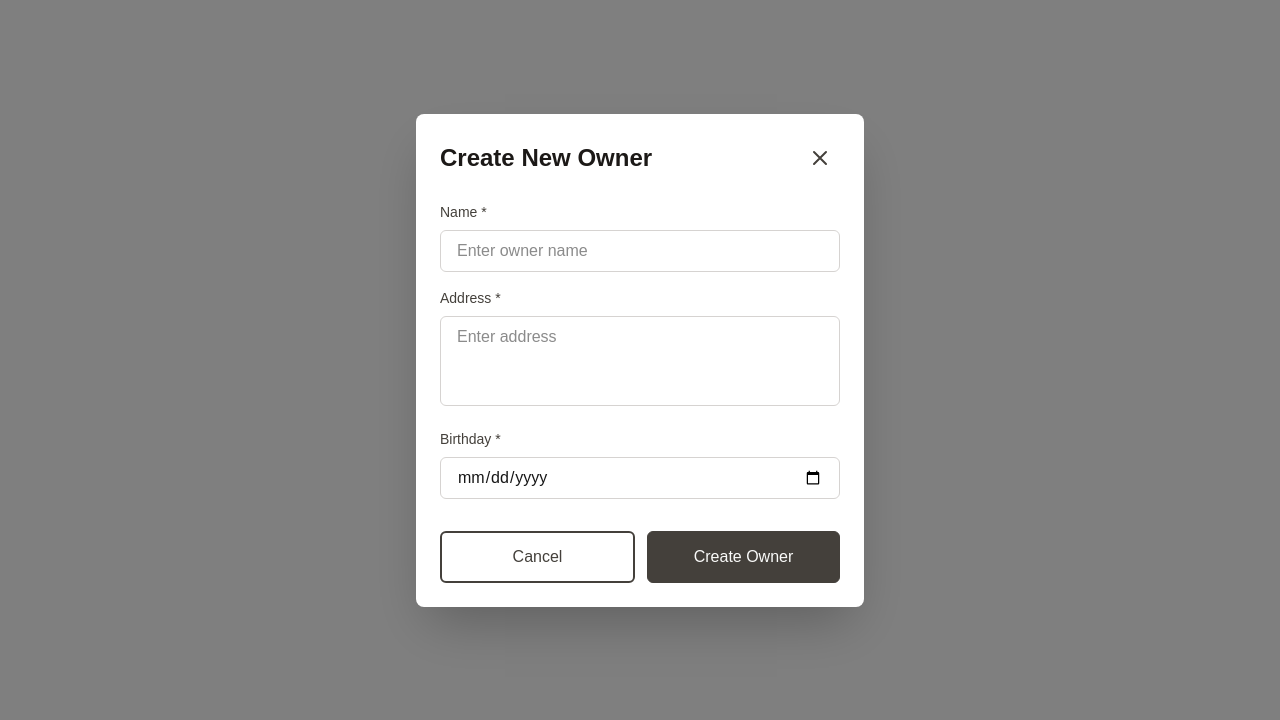
it: CreateOwnerModal › validates required fields
What coordinates should you click on to do the following:
click the button "Create Owner"
I would click on:
 (744, 556)
Its box is [647,530,840,582].
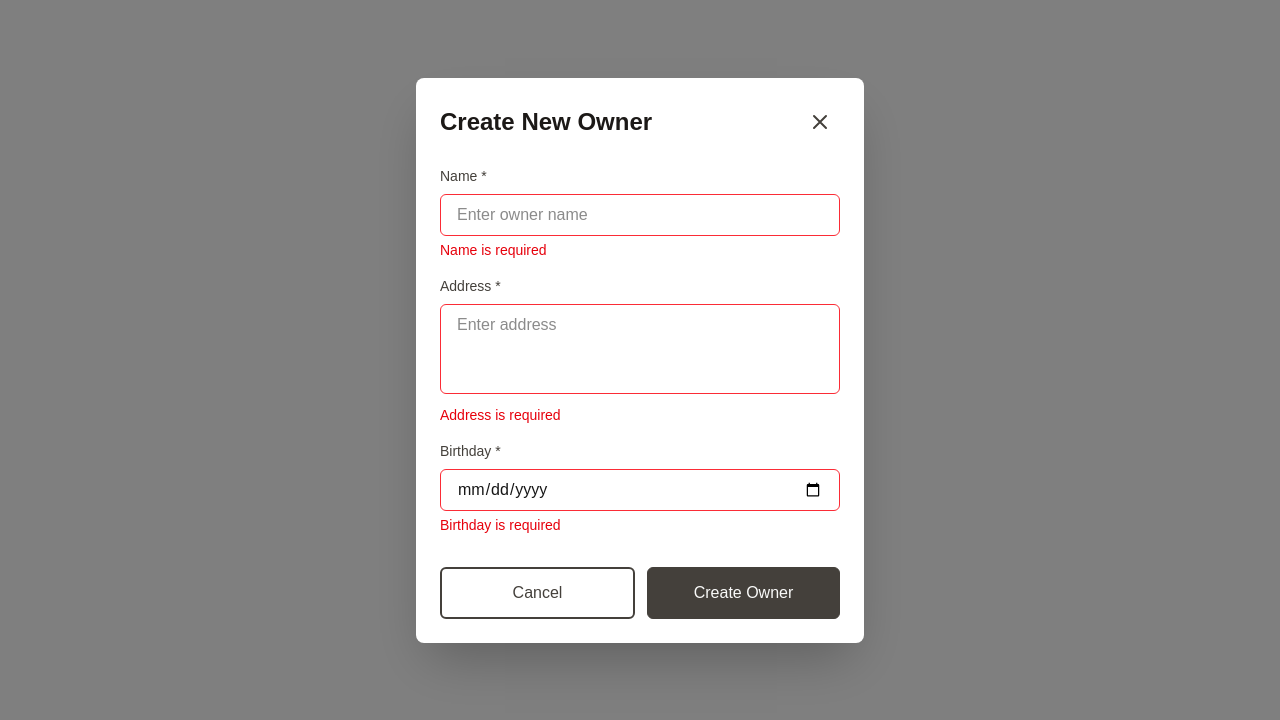
Expected: the text "Name is required" is shown, [440,242,547,258]
Expected: the text "Address is required" is shown, [440,406,561,422]
Expected: the text "Birthday is required" is shown, [440,516,561,532]
